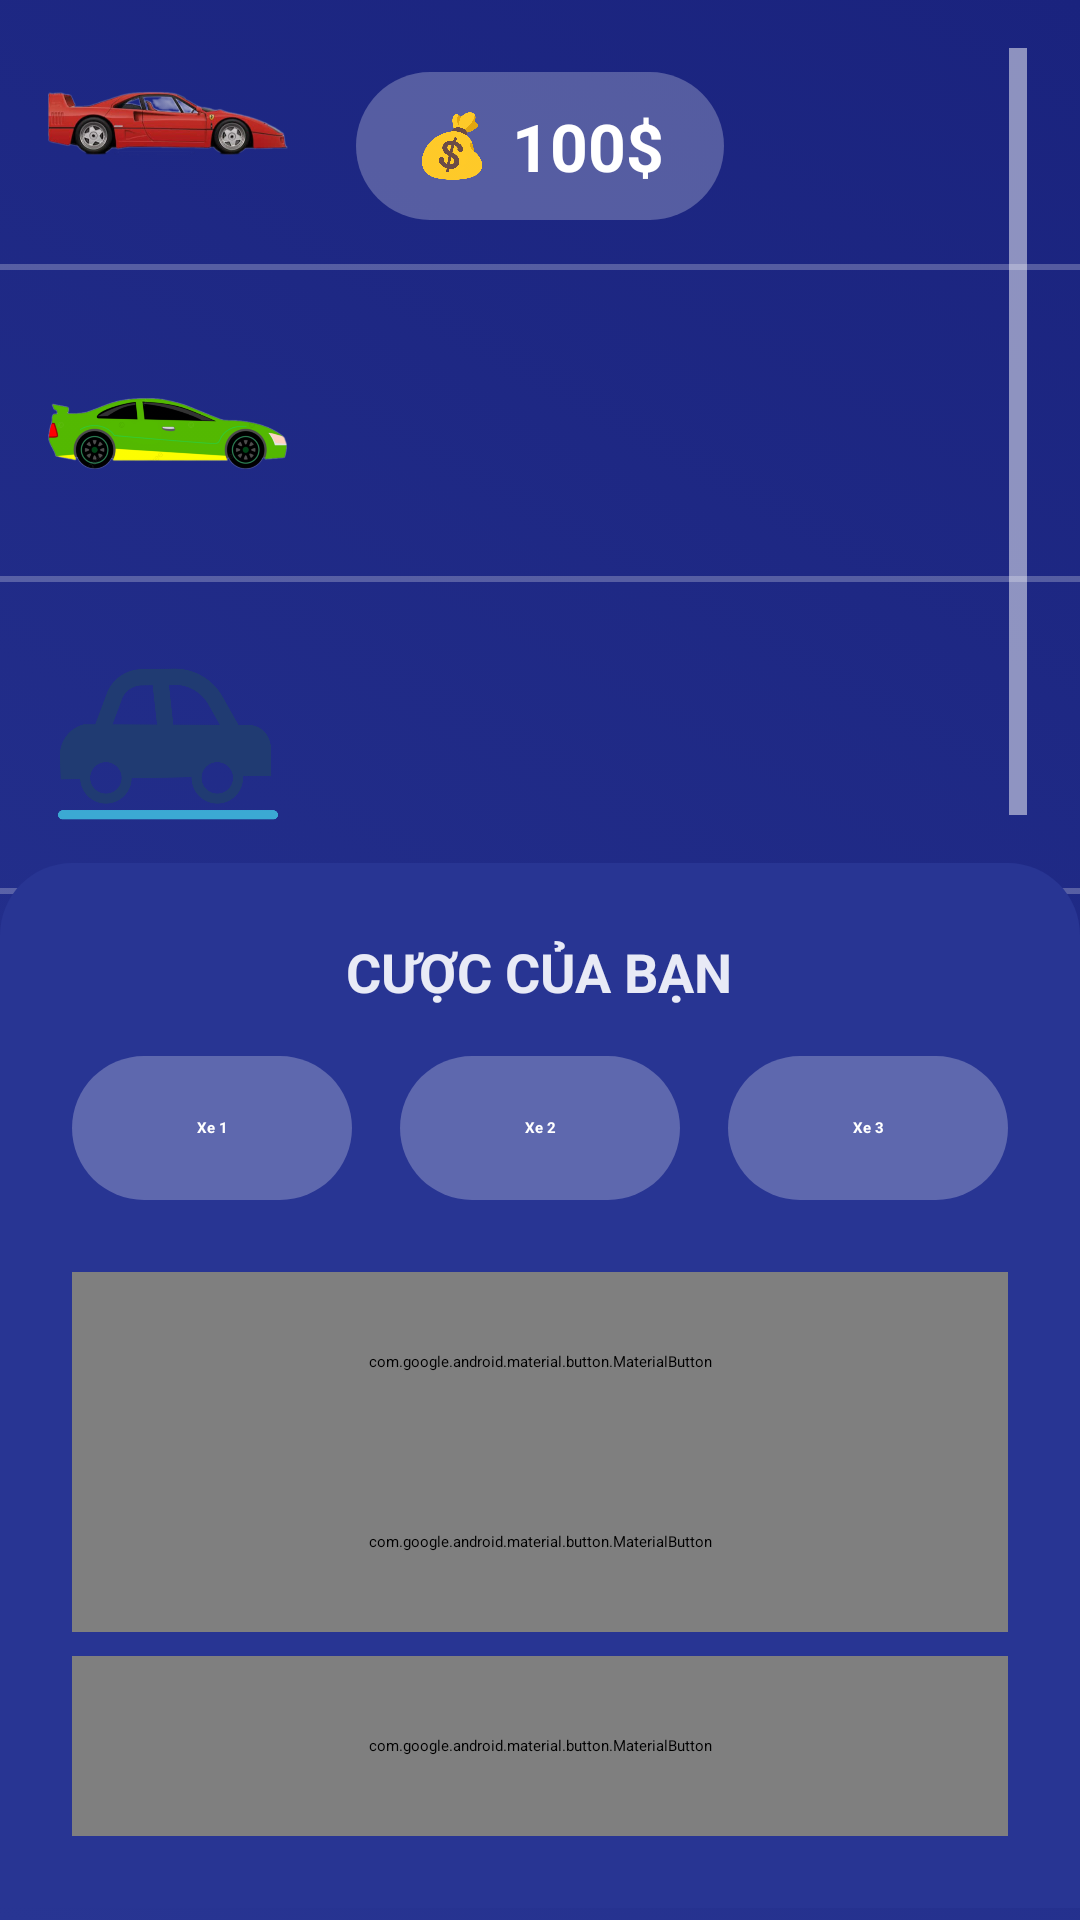

Icon bounding boxes for this 1080 × 1920 phone screenshot, format (x1, y1, x2, y2):
money bag: (422, 112, 482, 180)
